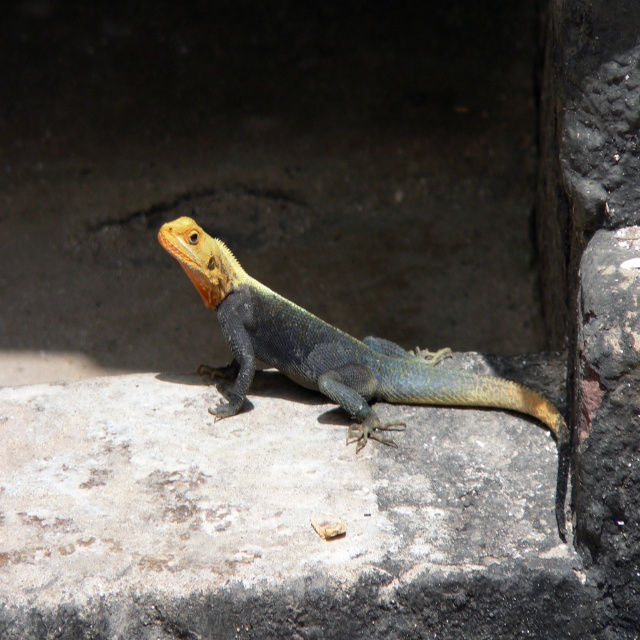Lizard: (156, 209, 568, 541)
